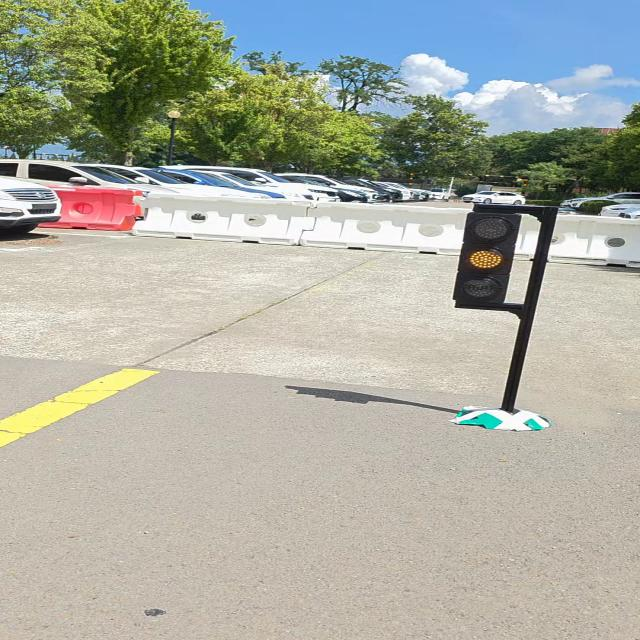yellow: (457, 213, 518, 306)
